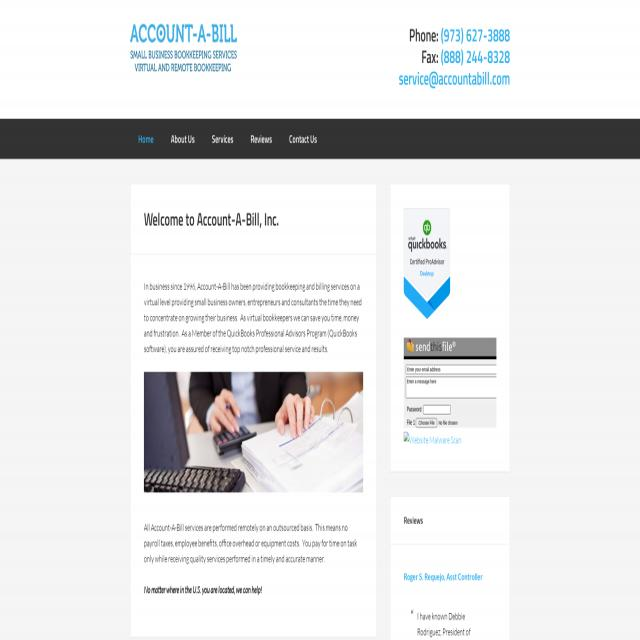button: (144, 372, 362, 492), (130, 24, 237, 72), (404, 208, 450, 319), (281, 119, 325, 159), (163, 119, 202, 159), (242, 119, 280, 159), (204, 119, 241, 159), (130, 119, 162, 159), (415, 418, 437, 427)
field: (406, 377, 496, 398), (406, 365, 496, 374), (423, 405, 451, 415)
